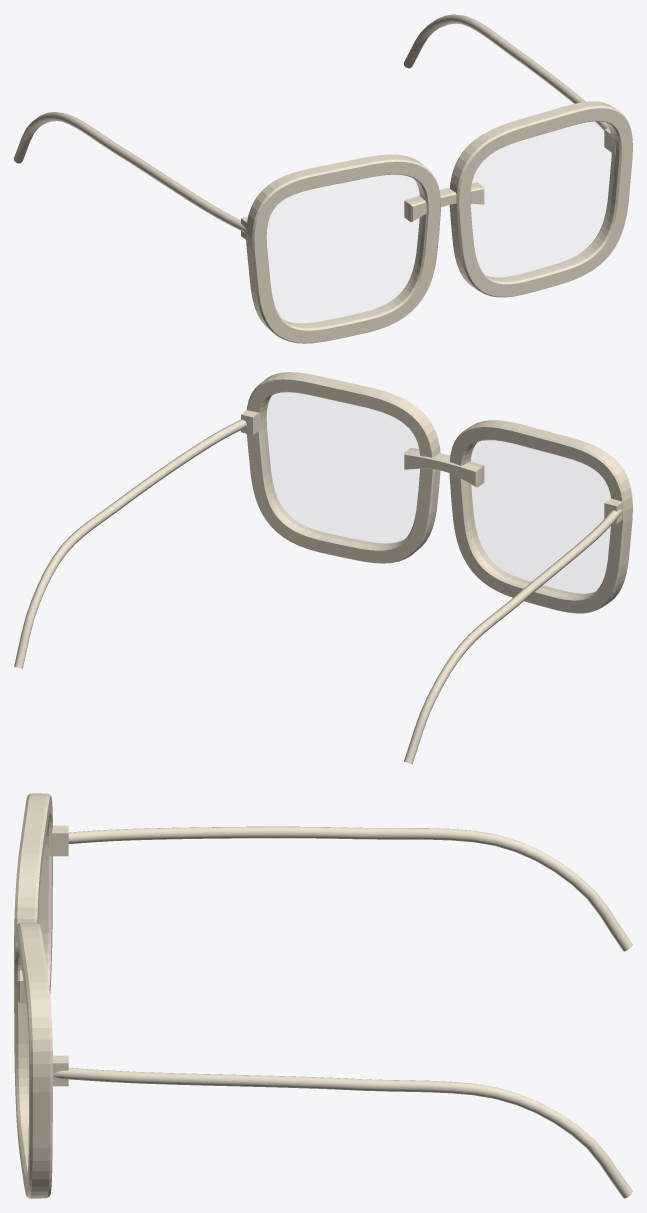
File: BM-W10_Veda_Ivory.glb
3 renders of one model, top to bottom at view 1: azimuth 30°, elevation 25°; view 2: azimuth 150°, elevation 25°; view 3: azimuth 270°, elevation 25°, orthographic. The views are drawn at different scales.
Parts seen in each view (by area): view 1: Veda_Ivory_Lenses, Veda_Ivory_Acetate; view 2: Veda_Ivory_Lenses, Veda_Ivory_Acetate; view 3: Veda_Ivory_Acetate.
Part boxes in pixels (x1,y1,x2,y2): Veda_Ivory_Lenses: (267, 122, 614, 325); Veda_Ivory_Acetate: (14, 14, 632, 343); Veda_Ivory_Lenses: (264, 393, 610, 595); Veda_Ivory_Acetate: (14, 372, 632, 764); Veda_Ivory_Acetate: (14, 793, 632, 1198).
Bounding box in the file's own units: 0.1438 × 0.0574 × 0.1457.
